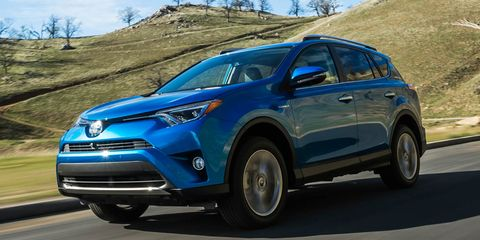Toyota RAV-4: (55, 38, 428, 230)
